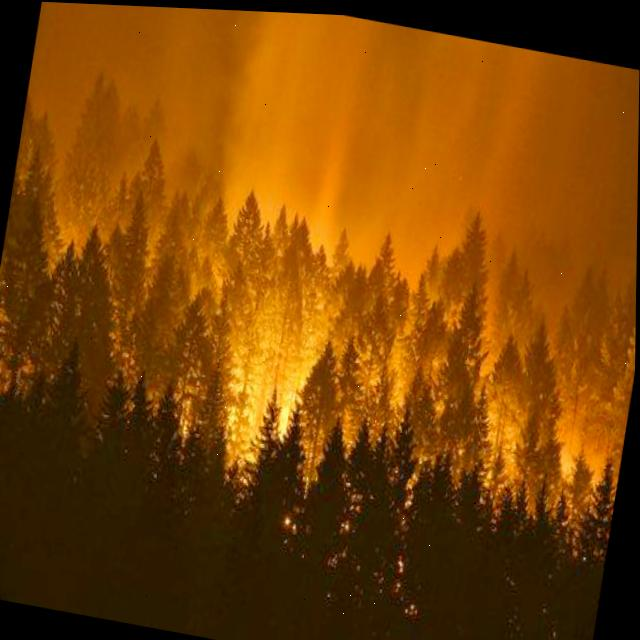smoke: (0, 1, 640, 498)
